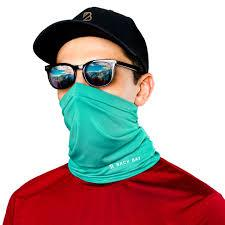cap: (24, 0, 159, 73)
scarf-kerchief: (51, 81, 165, 190)
sunglasses: (42, 57, 122, 93)
